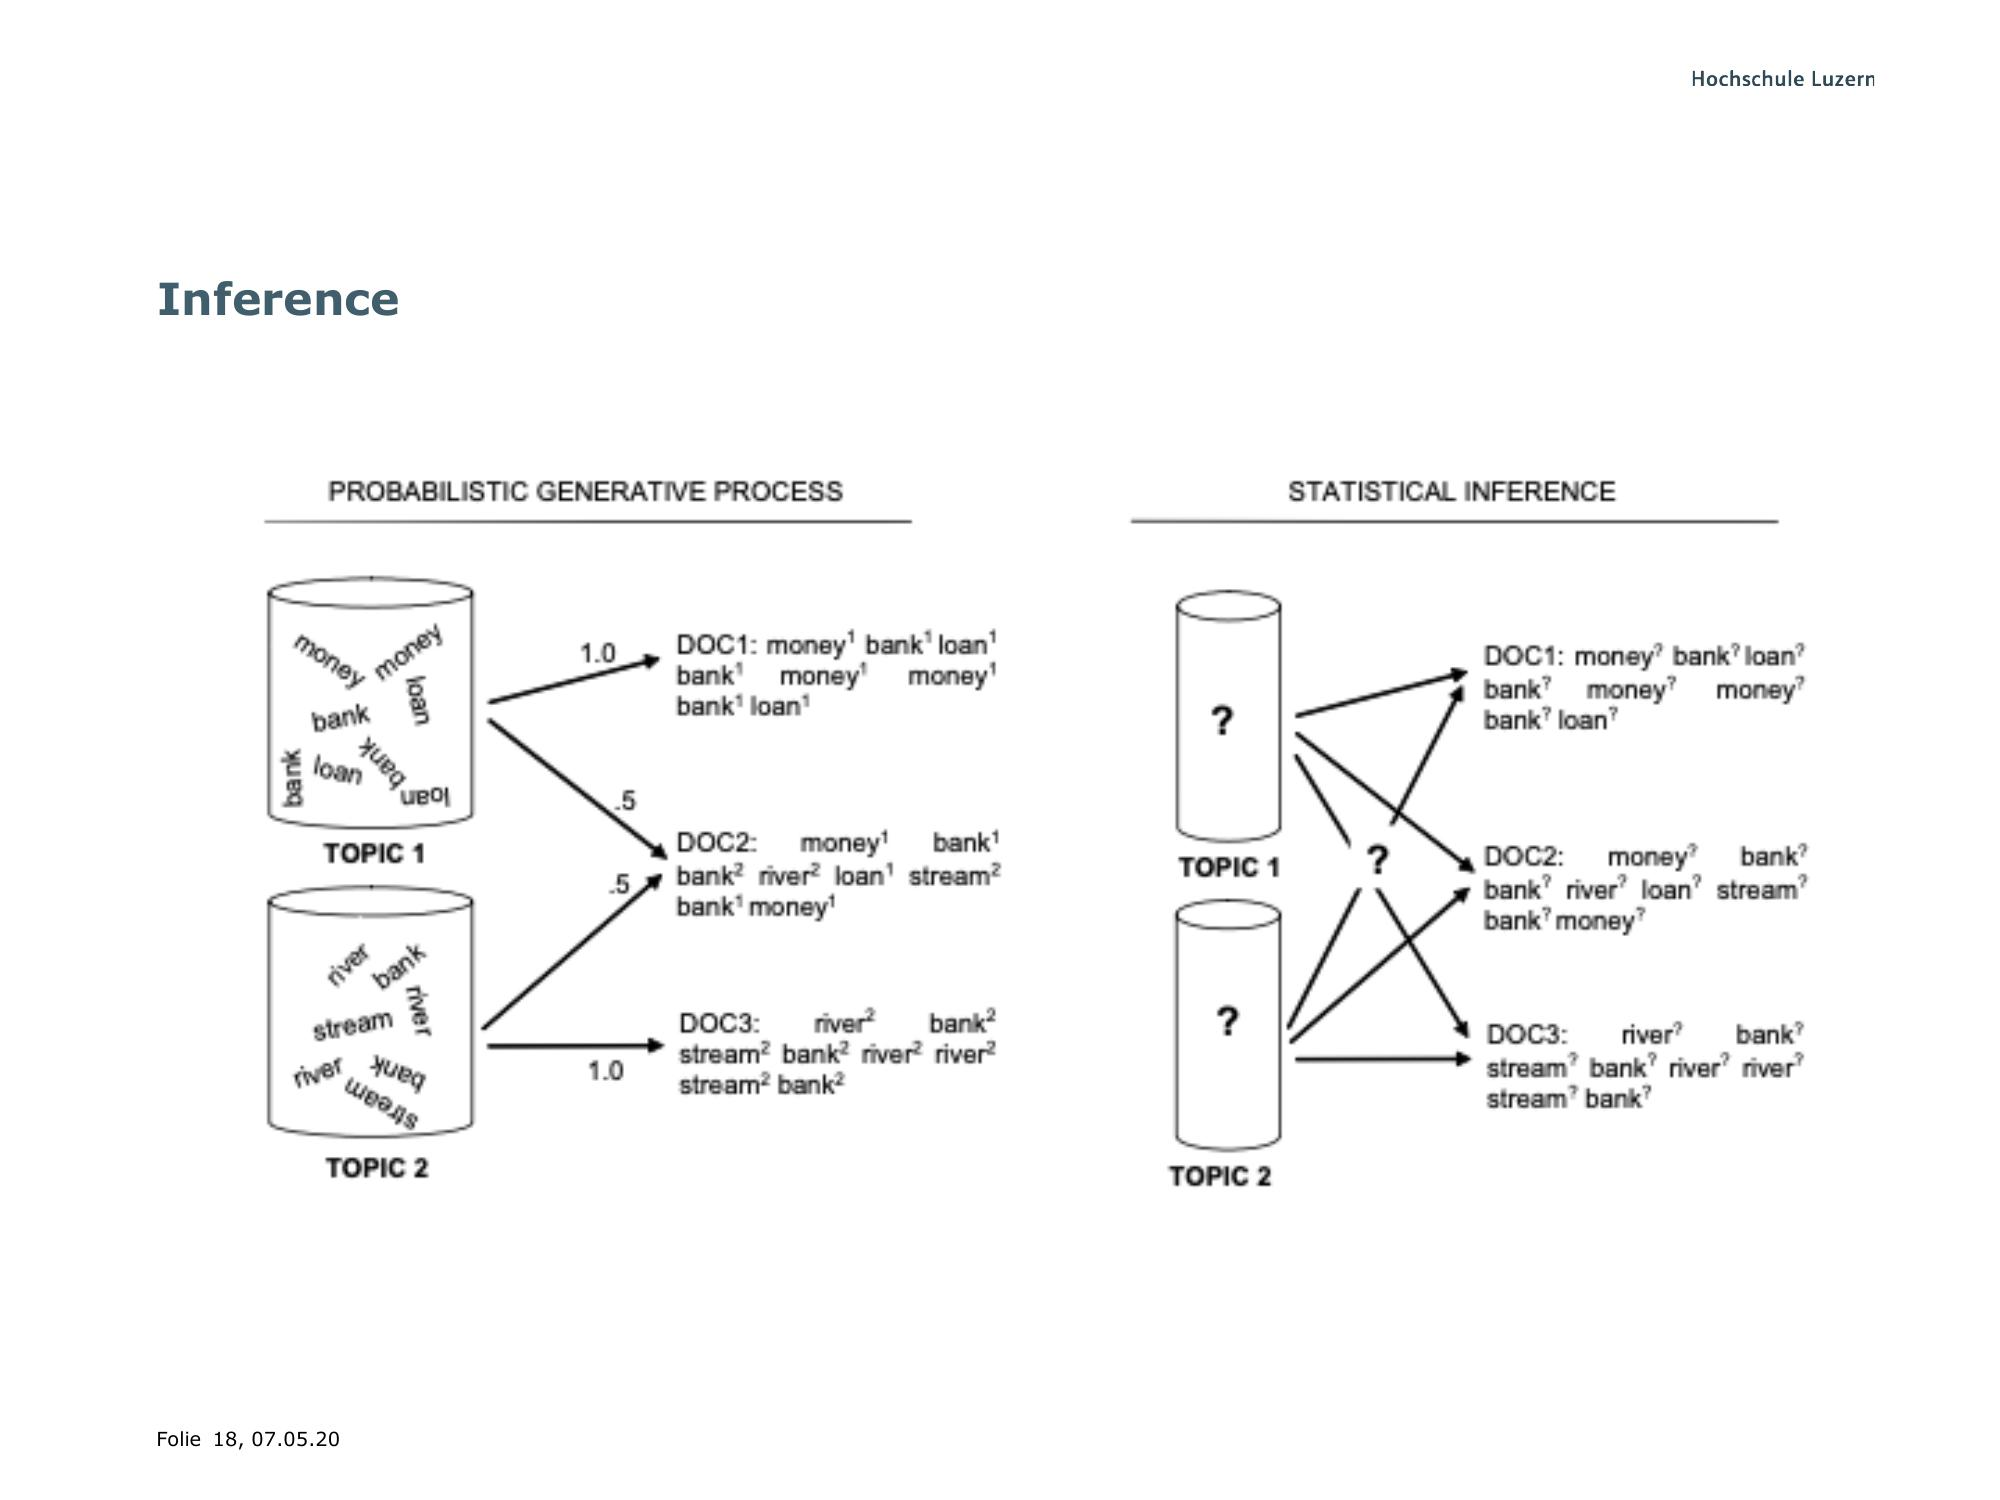Title: (157, 269, 406, 334)
